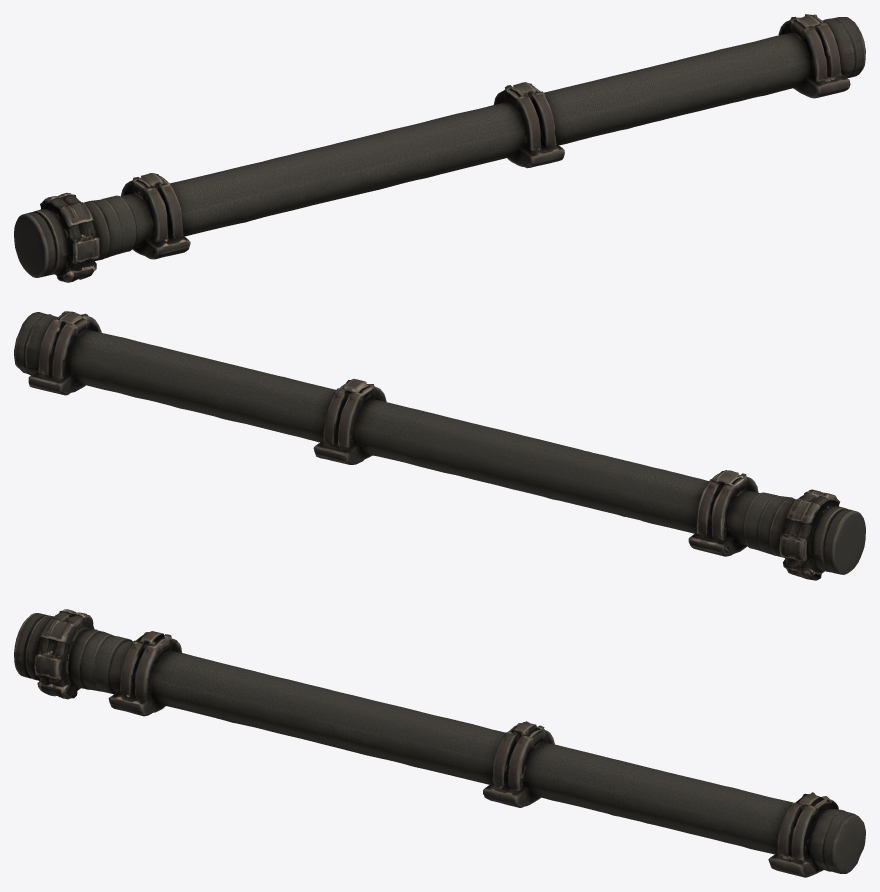
File: industrial+pipe+3d+model.glb
The picture shows the model from 3 angles, top to bottom: view 1: azimuth 30°, elevation 25°; view 2: azimuth 150°, elevation 25°; view 3: azimuth 330°, elevation 25°; orthographic projection.
Parts seen in each view (by area): view 1: tripo_node_7daf58ab-02dd-4721-a298-cd463539d1f0; view 2: tripo_node_7daf58ab-02dd-4721-a298-cd463539d1f0; view 3: tripo_node_7daf58ab-02dd-4721-a298-cd463539d1f0.
Part boxes in pixels (x1,y1,x2,y2): tripo_node_7daf58ab-02dd-4721-a298-cd463539d1f0: (14, 14, 865, 282); tripo_node_7daf58ab-02dd-4721-a298-cd463539d1f0: (14, 311, 865, 580); tripo_node_7daf58ab-02dd-4721-a298-cd463539d1f0: (14, 609, 865, 877).
Size of the model in its own units: 0.9812 by 0.0891 by 0.1036.
1 material, 1 textured.
